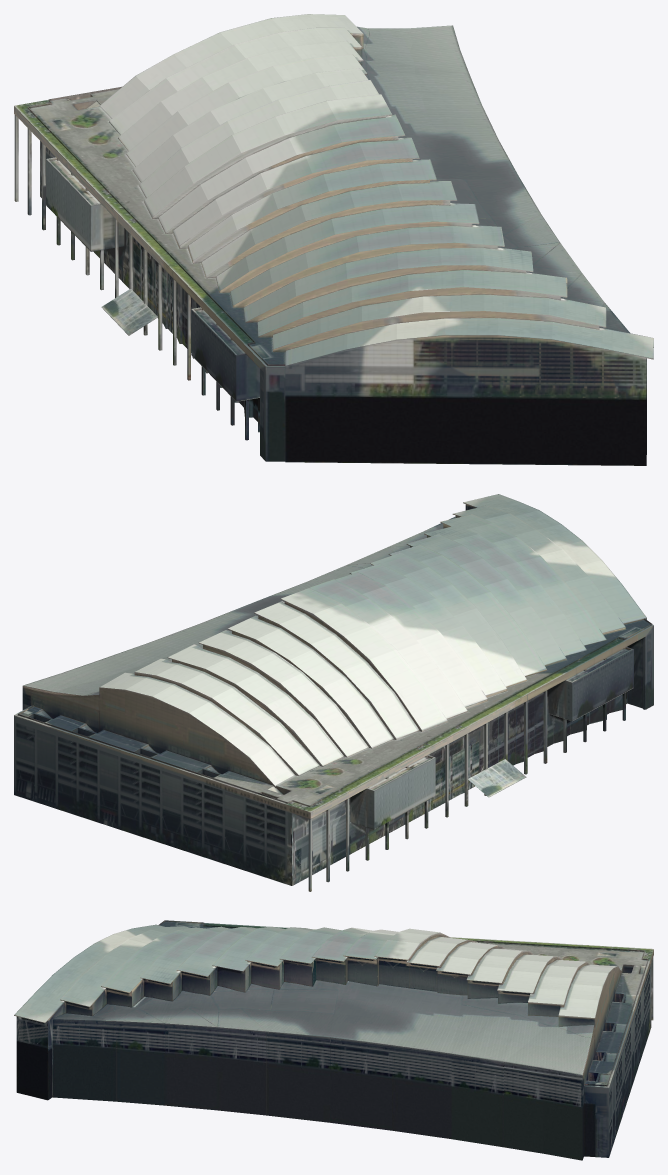
3 renders of one model, top to bottom at view 1: azimuth 30°, elevation 25°; view 2: azimuth 150°, elevation 25°; view 3: azimuth 270°, elevation 25°, orthographic. The views are drawn at different scales.
Parts seen in each view (by area): view 1: 4_0.glb; view 2: 4_0.glb; view 3: 4_0.glb.
Part boxes in pixels (bbox=[...]): 4_0.glb: bbox=[14, 14, 653, 465]; 4_0.glb: bbox=[14, 494, 653, 891]; 4_0.glb: bbox=[14, 920, 653, 1160].
Bounding box in the file's own units: 156 × 56.45 × 247.
1 material, 1 textured.
